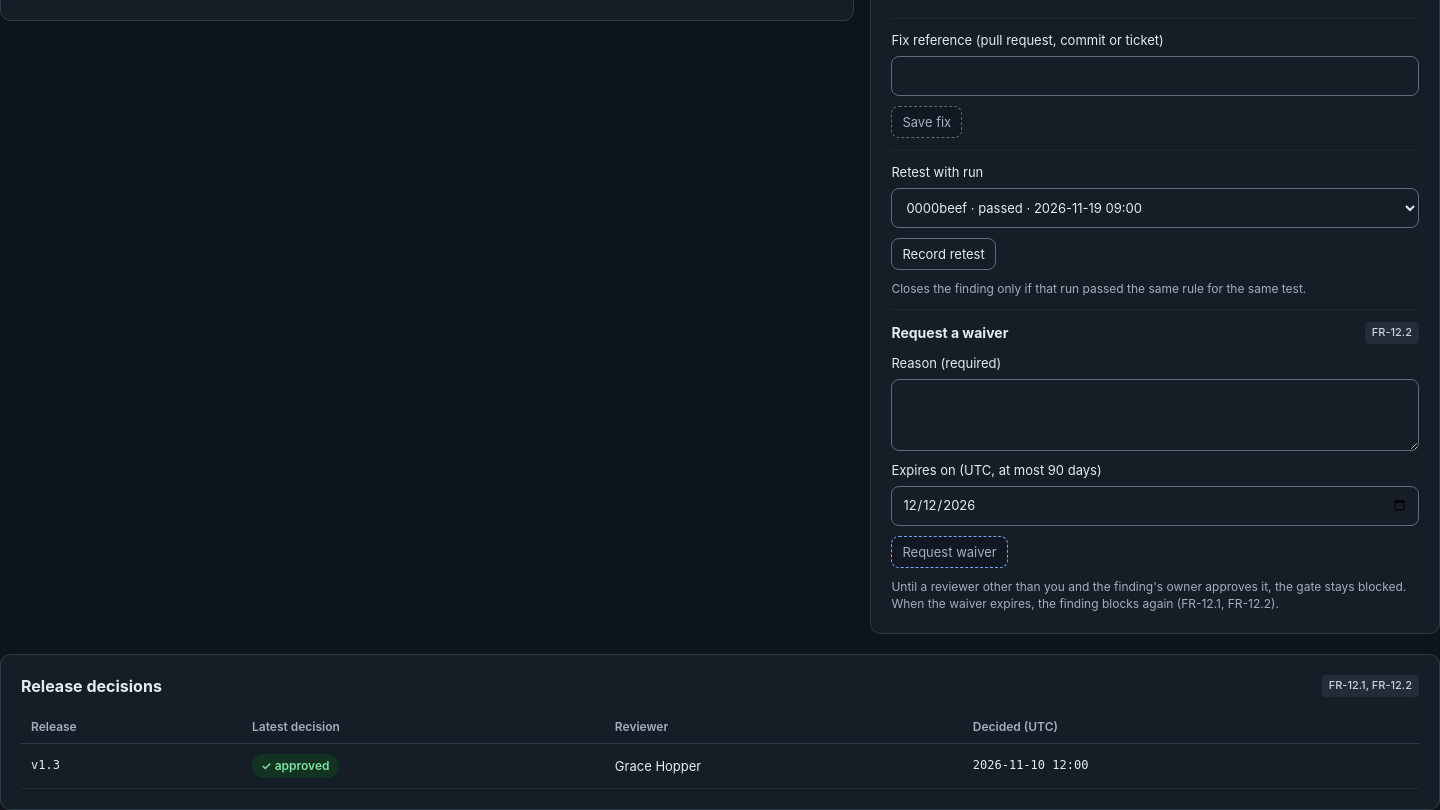
Test: Approvals & gates (FR-10.1, FR-12.1, FR-12.2) › shows why the API refused, and keeps the form
This screenshot has width=1440, height=810.
(page scrolled)
In the text box labelled "Reason (required)": (1155, 415) [891,379,1419,451], type "again"
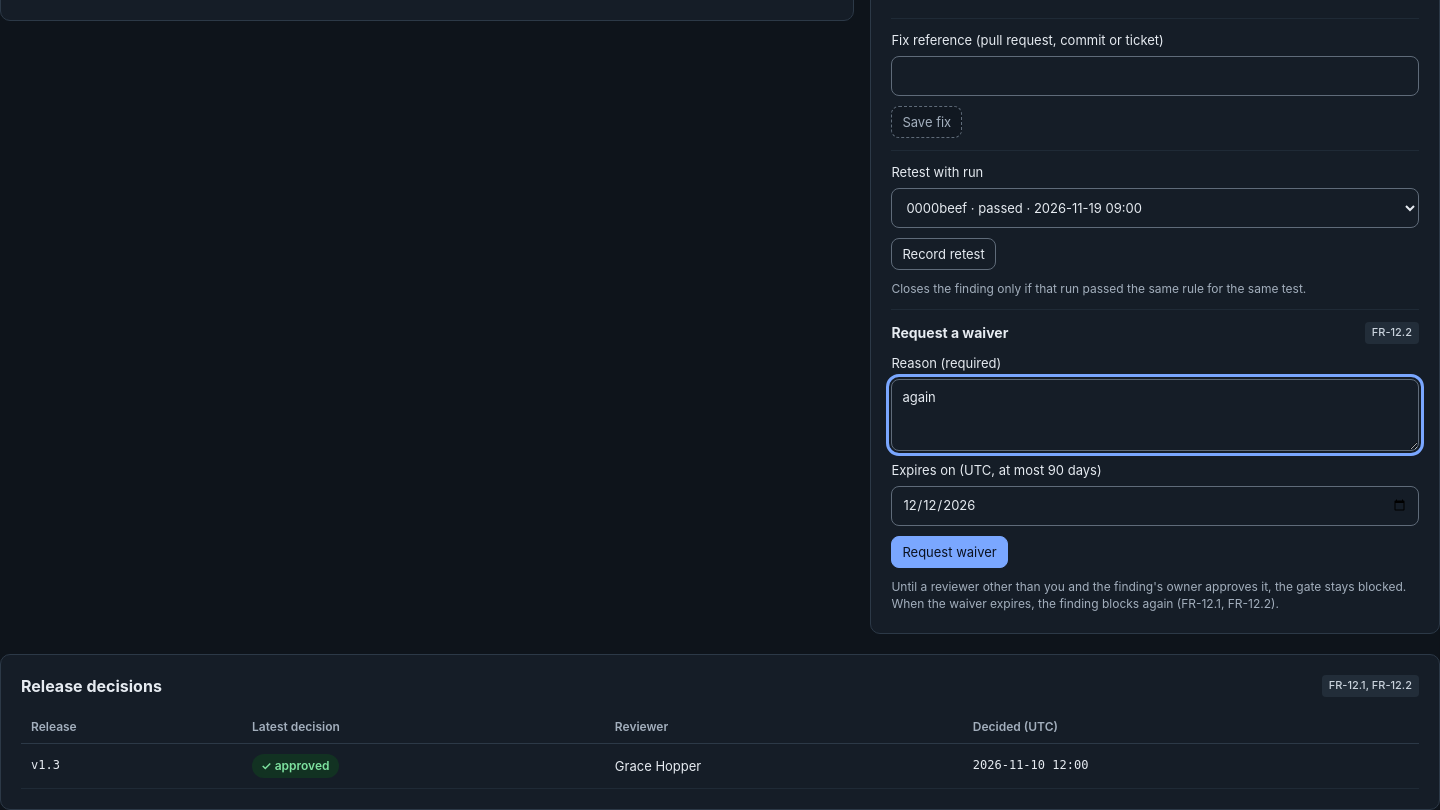
Click the button "Request waiver": (950, 552) [891,536,1008,568]
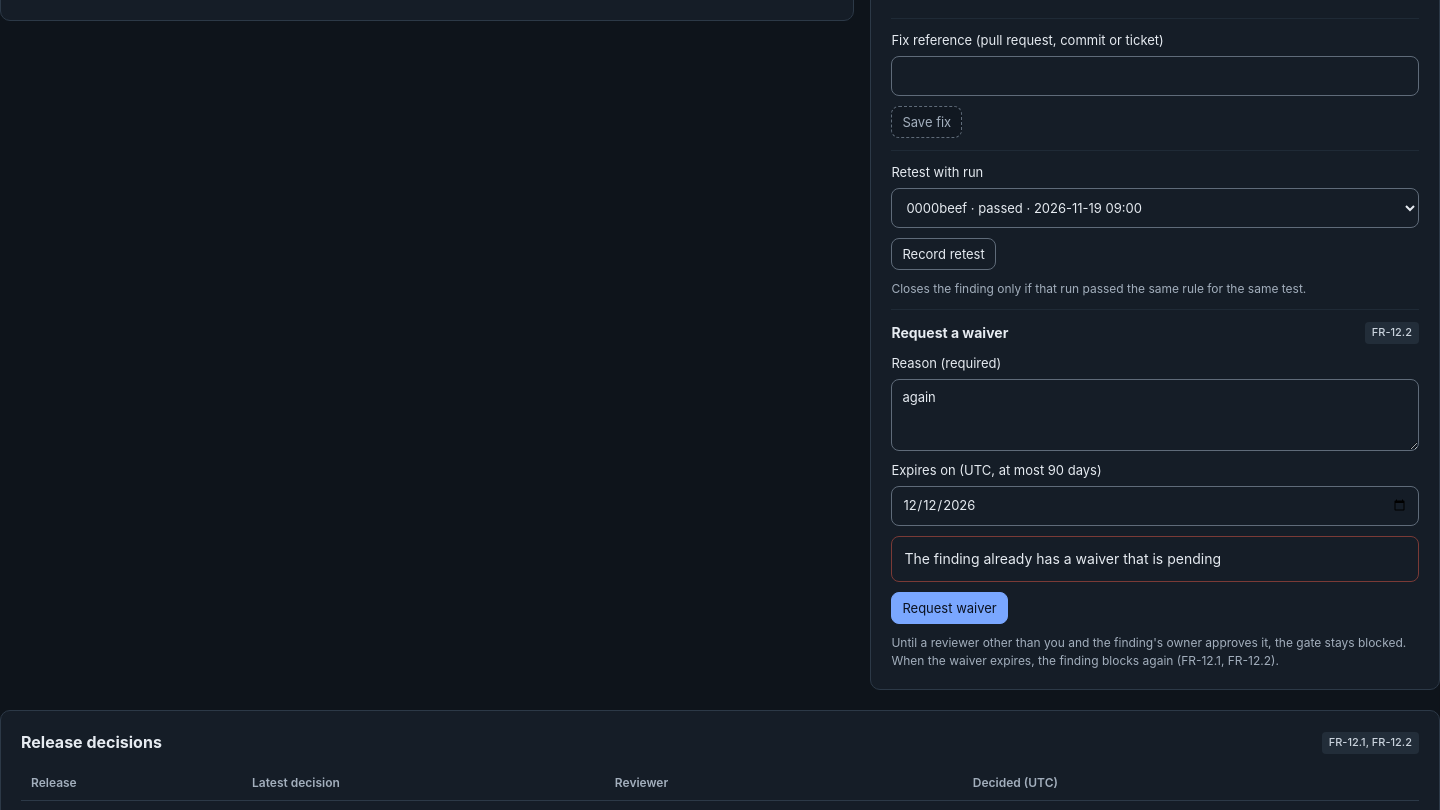
expect the message shows "already has a waiver that is pending": met, box [904,550,1221,567]
